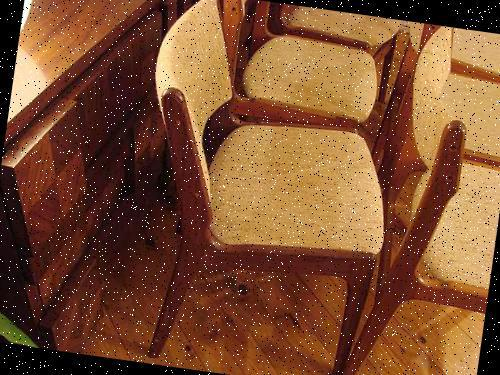Silla: (115, 0, 415, 374)
